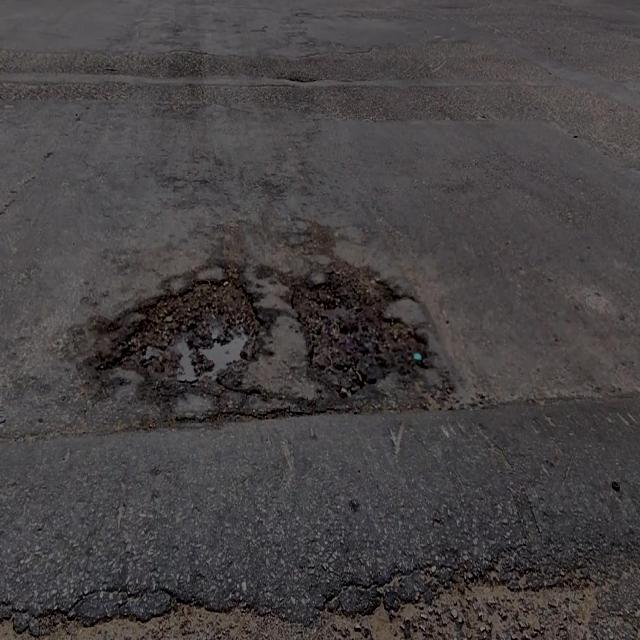Potholes: (291, 267, 424, 387), (118, 275, 260, 381)
